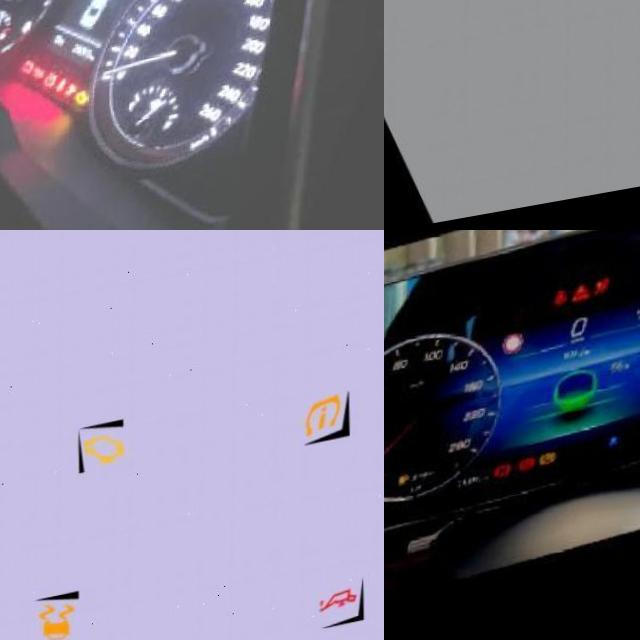Low fuel level: (403, 477, 417, 493)
Seat Belt: (60, 86, 73, 104)
